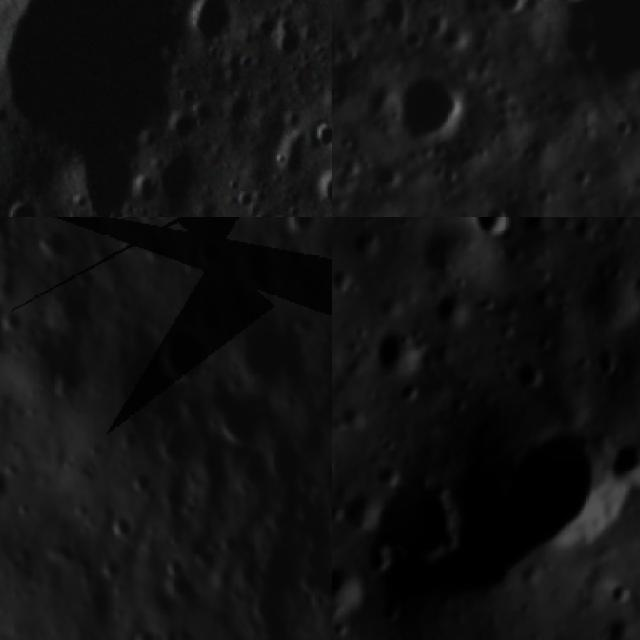crater: (0, 0, 225, 171), (506, 415, 623, 575), (347, 444, 472, 583), (550, 0, 640, 90), (394, 67, 474, 146), (229, 328, 300, 386), (152, 326, 212, 388), (201, 392, 266, 448), (372, 320, 428, 384), (154, 144, 206, 208), (187, 0, 242, 44), (332, 561, 368, 628), (428, 284, 474, 329), (508, 355, 552, 395), (166, 99, 200, 148), (468, 217, 519, 249), (266, 444, 304, 486), (610, 441, 640, 494), (594, 347, 631, 388), (296, 569, 332, 610), (250, 590, 288, 628), (0, 190, 50, 217), (193, 235, 228, 272), (45, 364, 79, 401), (365, 161, 405, 192), (106, 513, 144, 544), (484, 0, 533, 24), (374, 0, 412, 30), (37, 228, 72, 255), (228, 183, 260, 212), (312, 165, 332, 210), (276, 243, 308, 269), (140, 238, 172, 264), (162, 550, 188, 582), (99, 555, 128, 583), (86, 239, 117, 265), (128, 468, 154, 498), (424, 10, 452, 36), (314, 113, 332, 150), (68, 267, 95, 291), (280, 217, 317, 233), (614, 112, 638, 136), (270, 508, 291, 534), (1, 306, 22, 331), (189, 296, 212, 318), (0, 461, 10, 508), (16, 499, 38, 519), (251, 202, 280, 217), (133, 628, 160, 640), (485, 203, 506, 217), (0, 334, 6, 355)
